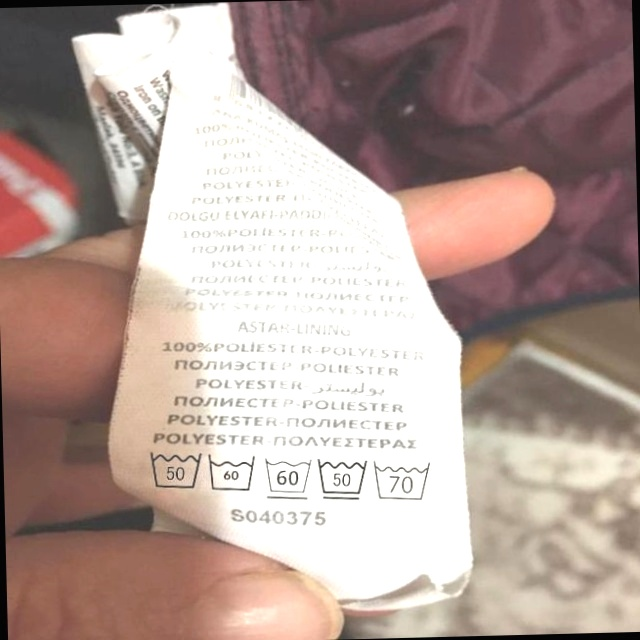50C: (143, 443, 206, 495), (314, 454, 372, 504)
60C: (262, 452, 317, 502), (205, 450, 260, 497)
70C: (373, 457, 438, 504)
